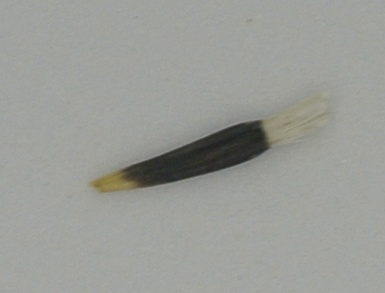เมล็ดดีติดกัน: (87, 85, 332, 196)
